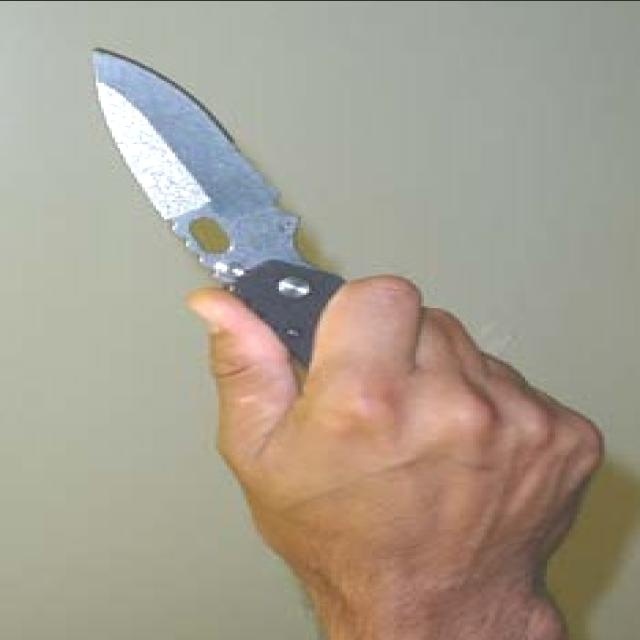knife: (66, 34, 356, 408)
